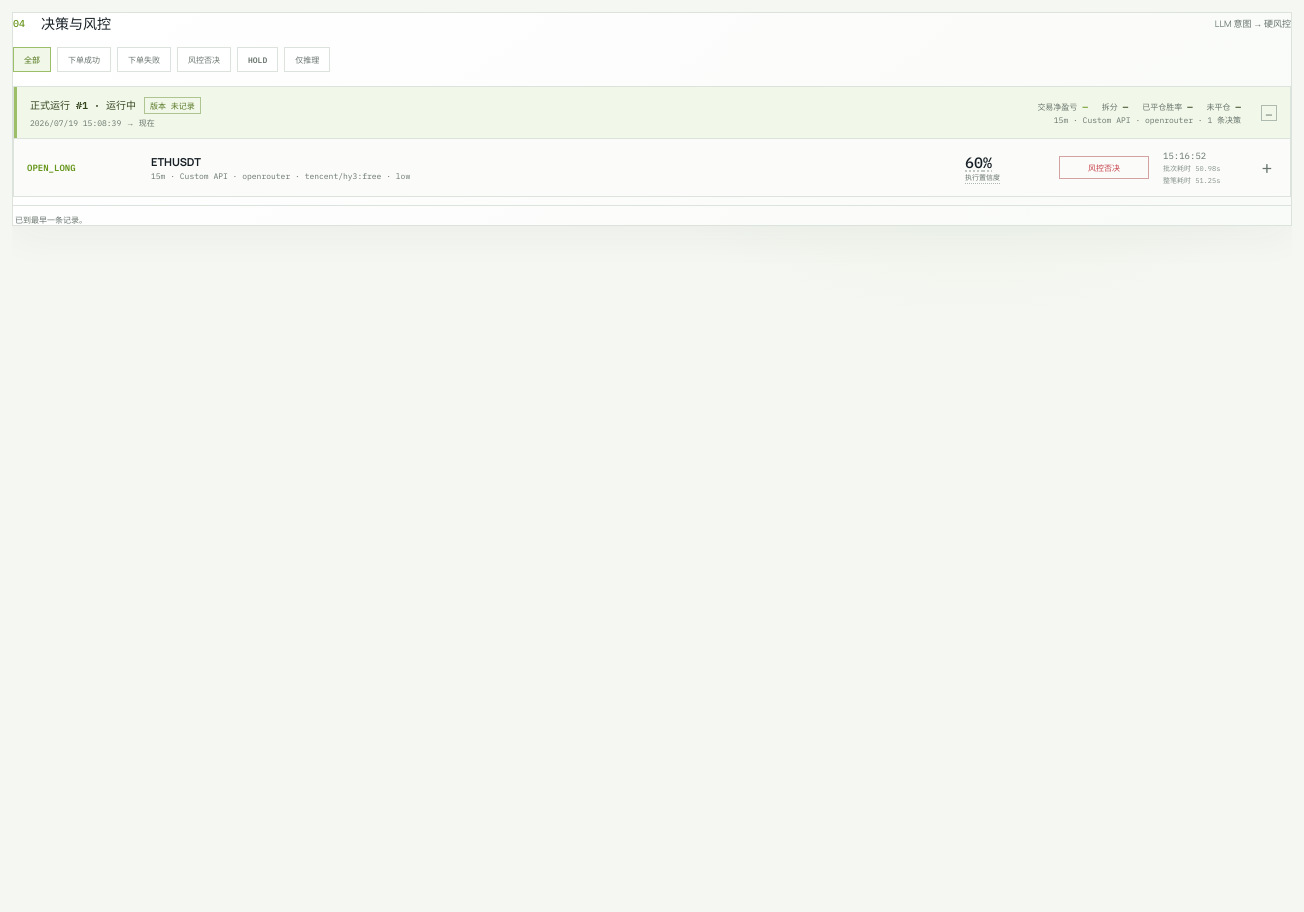
it: DecisionPanel › evaluates and displays a rejected decision's later outcome
Click the button "OPEN_LONG".
click(51, 168)  # box [14,139,1290,196]
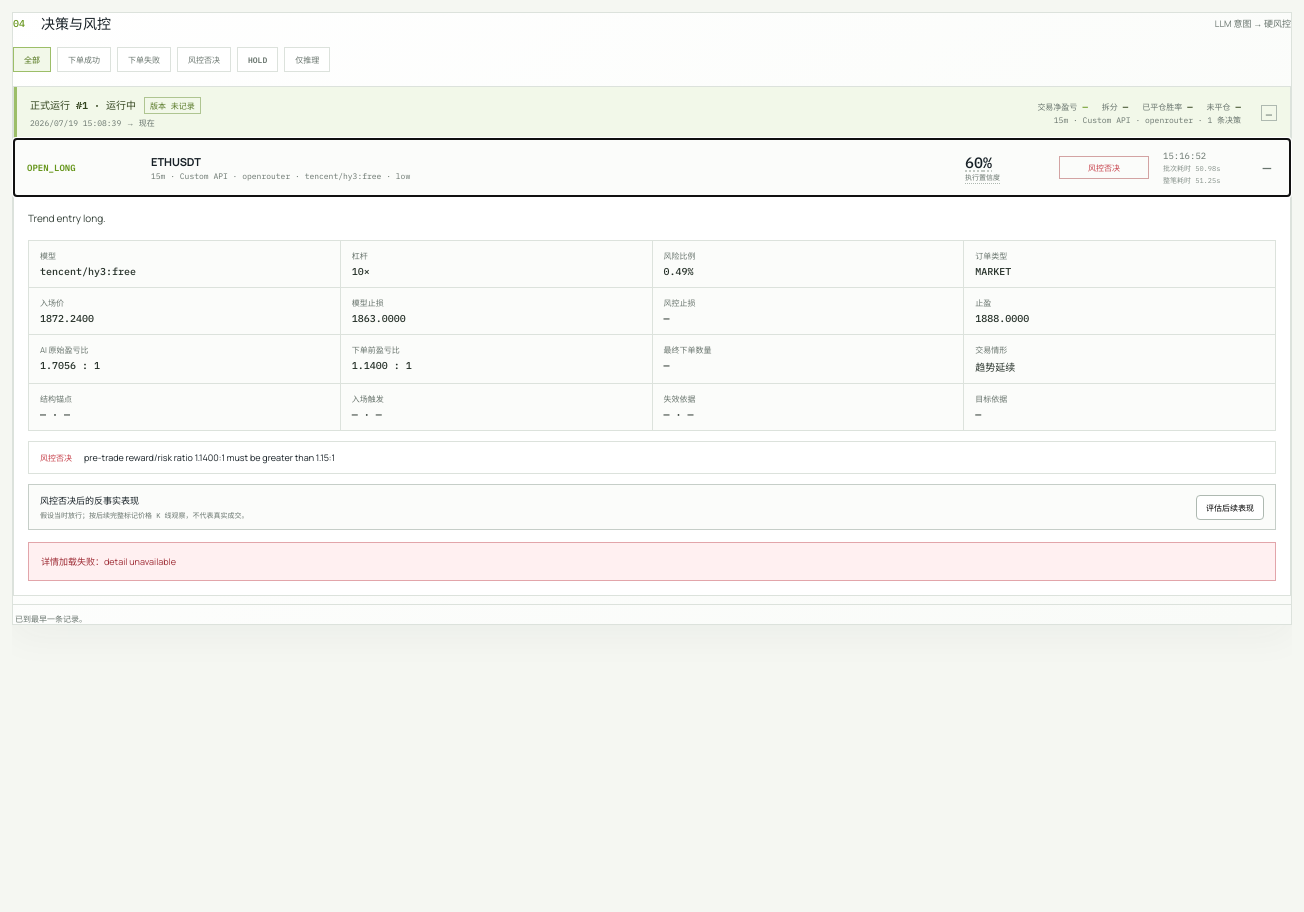
Click the button "评估后续表现".
click(1230, 507)  # box [1196,494,1264,520]
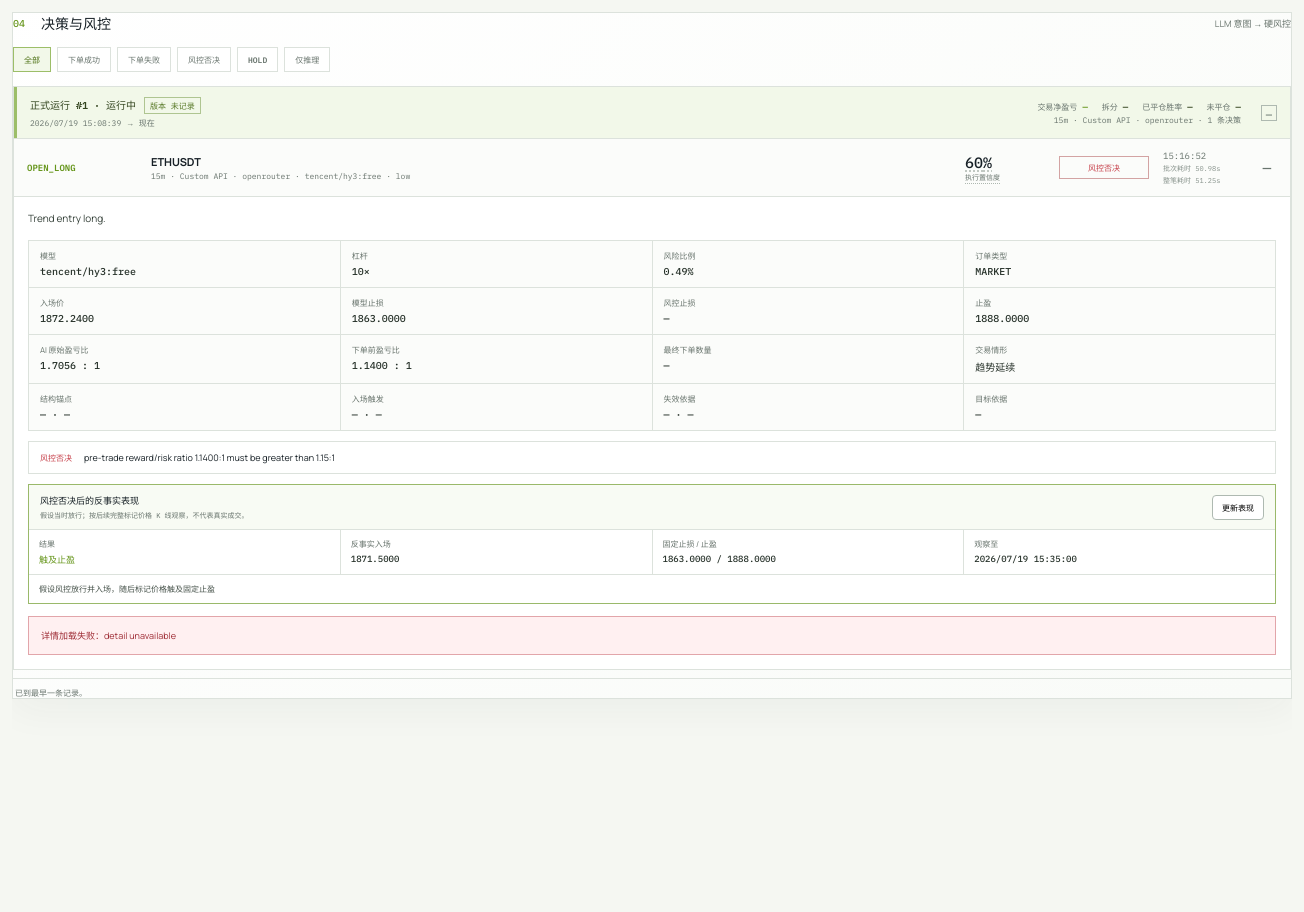
Now the text "触及止盈" is shown, box [39,554,75,565]
Now the text "假设风控放行并入场，随后标记价格触及固定止盈" is shown, box [29,575,1275,603]
Now the button "更新表现" is shown, box [1212,494,1264,520]
